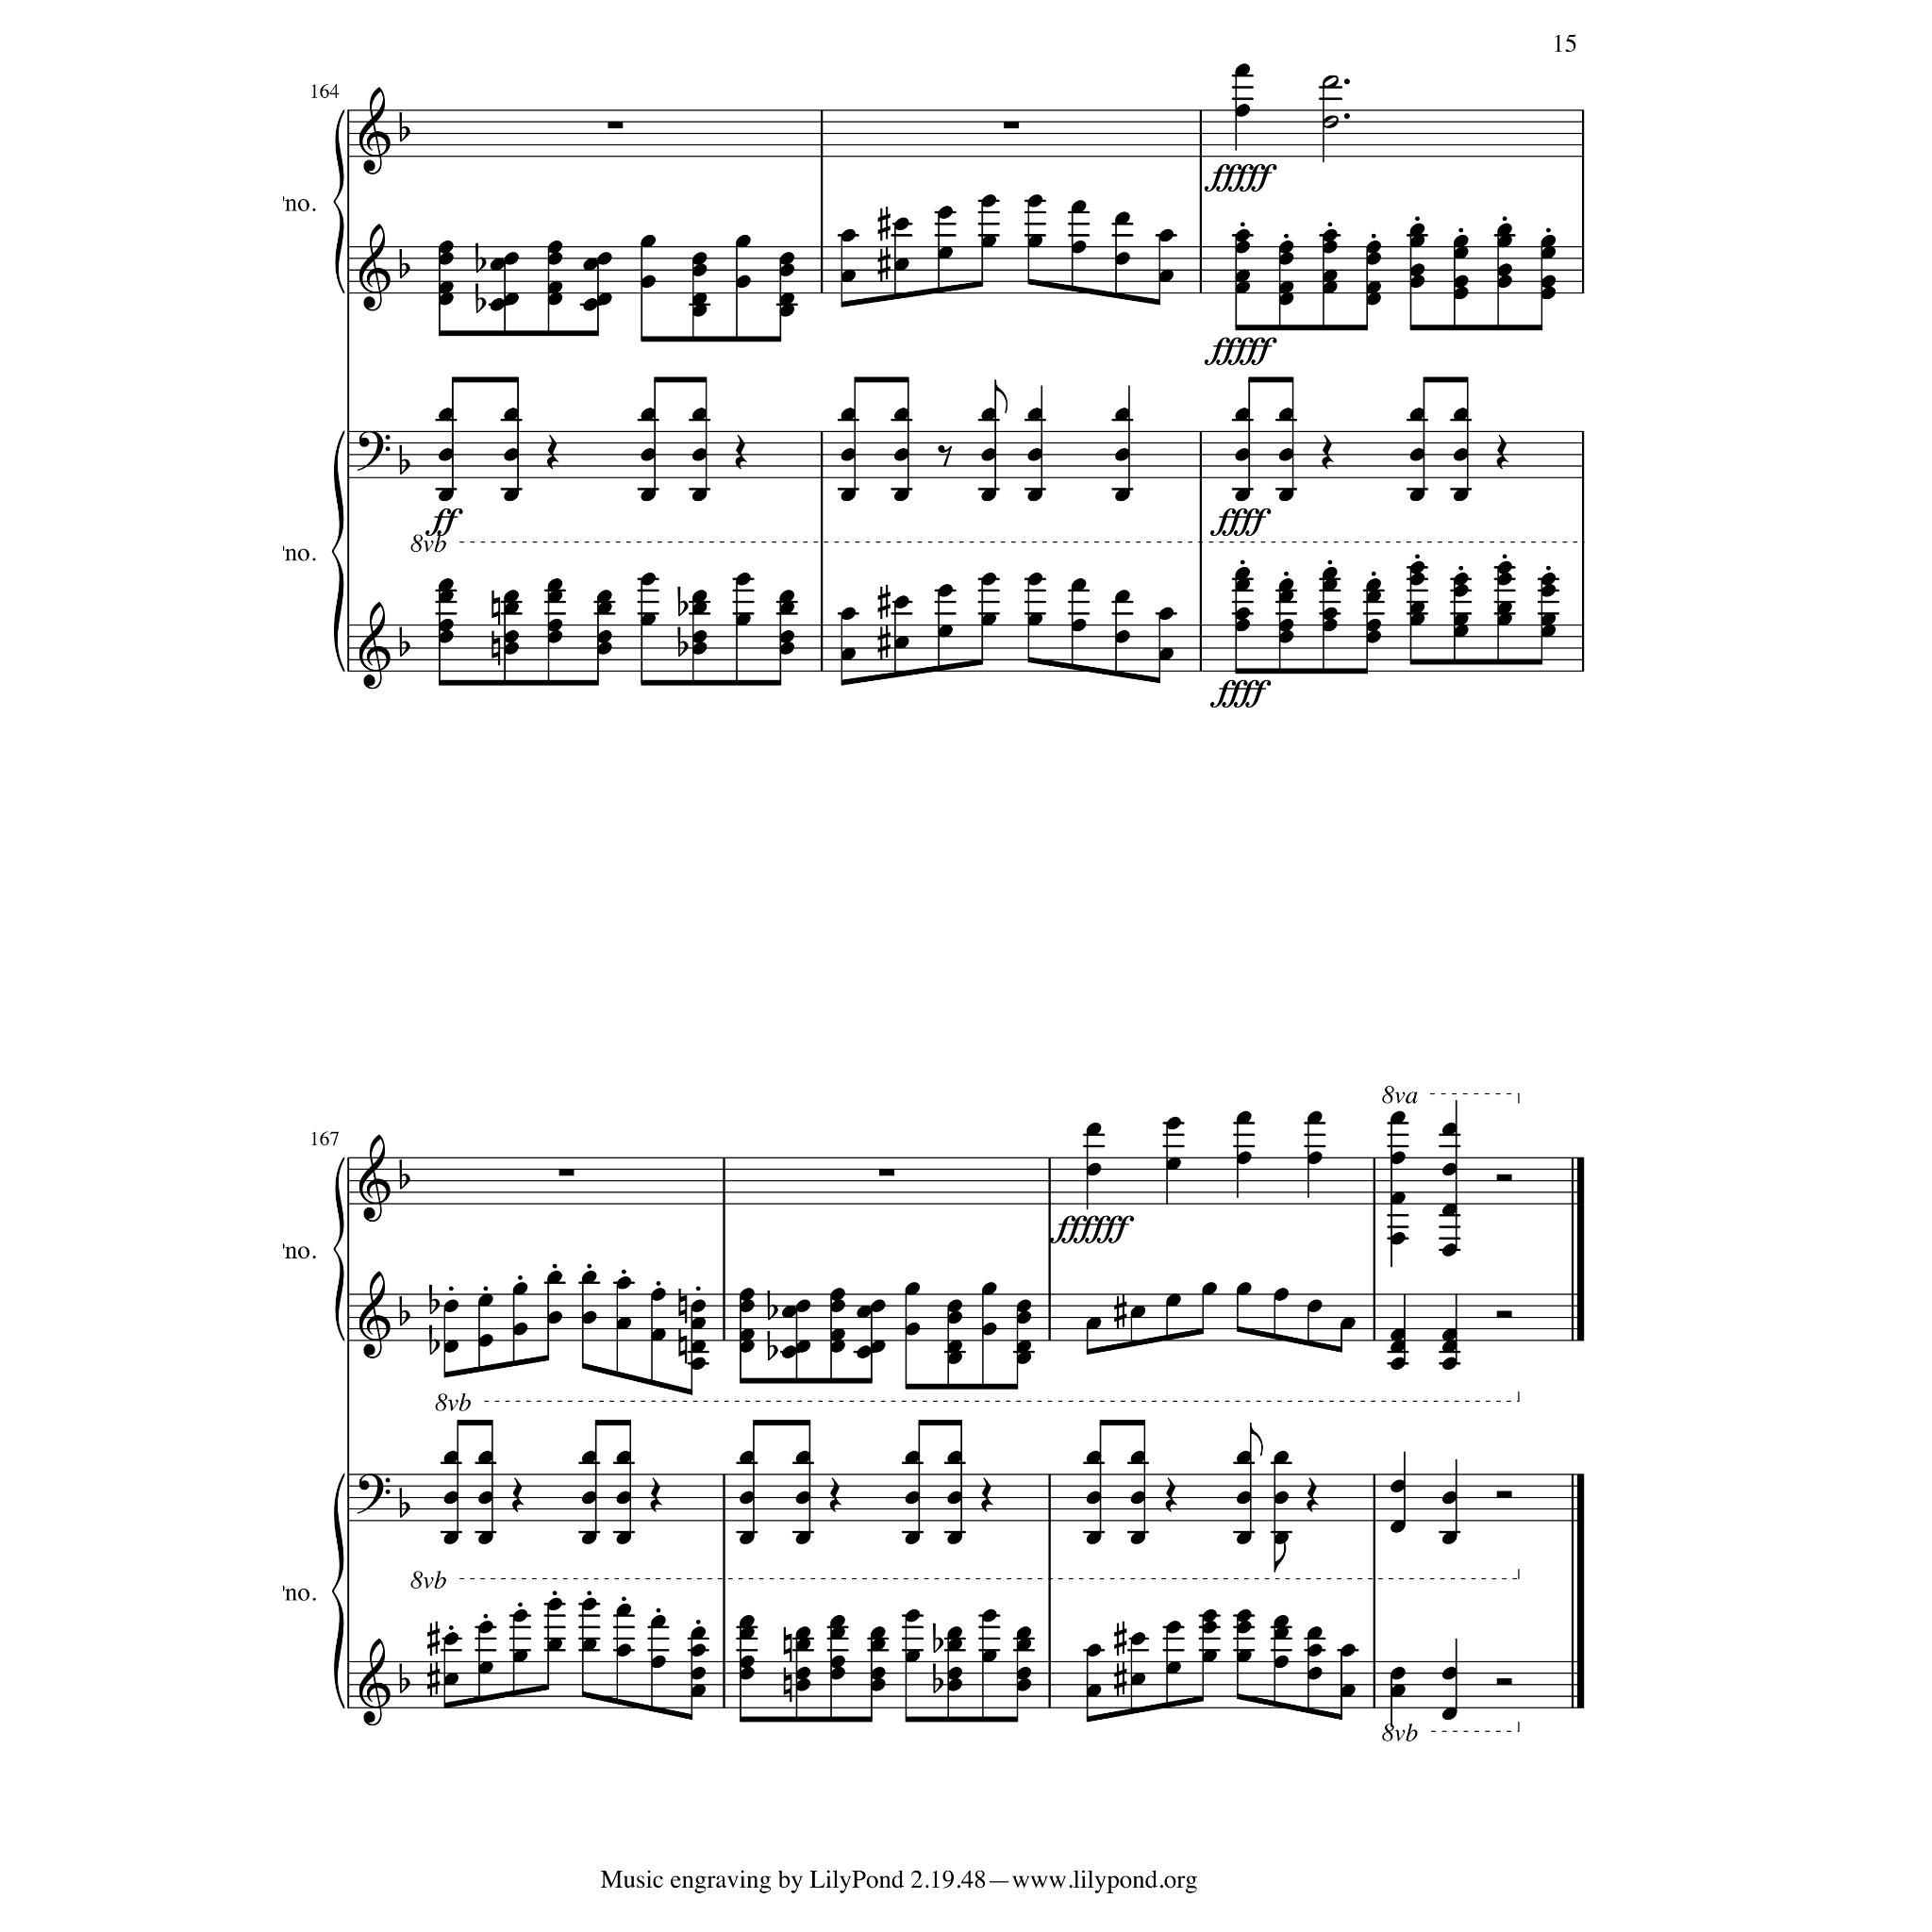brace: (331, 430, 345, 672), (331, 1474, 345, 1709), (333, 110, 345, 294), (333, 1157, 345, 1341)
fClef: (357, 430, 391, 471), (357, 1474, 391, 1514)
flag8thDown: (1274, 1539, 1286, 1573)
flag8thUp: (1249, 1422, 1263, 1456), (994, 380, 1007, 414)
gClef: (359, 602, 391, 690), (359, 223, 391, 311), (359, 87, 391, 175), (359, 1638, 391, 1727), (359, 1270, 391, 1359), (359, 1134, 391, 1223)
noteheadBlack: (1539, 287, 1557, 301), (1539, 274, 1557, 288), (1539, 246, 1557, 260), (1539, 625, 1557, 639), (502, 602, 520, 616), (488, 297, 506, 311), (502, 292, 520, 306), (502, 251, 520, 265), (502, 488, 520, 502), (502, 448, 520, 462), (502, 409, 520, 423), (502, 642, 520, 656), (502, 630, 520, 644), (502, 589, 520, 603), (1085, 1162, 1102, 1177), (1085, 1316, 1102, 1330), (1085, 1530, 1102, 1545), (1085, 1491, 1102, 1506), (1085, 1451, 1102, 1465), (1085, 1644, 1102, 1658), (1322, 566, 1338, 580), (1322, 269, 1338, 283), (1277, 409, 1293, 423), (1277, 292, 1293, 306), (1277, 251, 1293, 265), (1277, 488, 1293, 502), (1277, 448, 1293, 462), (1277, 630, 1293, 644), (1322, 607, 1338, 621), (1277, 589, 1293, 603), (1115, 448, 1131, 462), (1115, 251, 1131, 265), (1115, 488, 1131, 502), (1115, 409, 1131, 423), (1115, 630, 1131, 644), (1115, 589, 1131, 603), (1070, 200, 1086, 214), (1235, 269, 1251, 283), (1235, 488, 1251, 502), (1235, 448, 1251, 462), (1235, 409, 1251, 423), (1235, 64, 1251, 78), (1235, 607, 1251, 621), (1235, 566, 1251, 580), (1159, 269, 1175, 283), (1159, 607, 1175, 621), (1235, 103, 1251, 117), (1497, 274, 1513, 288), (1497, 264, 1513, 278), (1497, 223, 1513, 237), (1497, 602, 1513, 616), (1497, 561, 1513, 575), (1366, 589, 1382, 603), (1366, 630, 1382, 644), (1408, 274, 1424, 288), (1408, 264, 1424, 278), (1408, 223, 1424, 237), (1408, 488, 1424, 502), (1408, 448, 1424, 462), (1408, 409, 1424, 423), (1366, 292, 1382, 306), (1366, 251, 1382, 265), (1453, 488, 1468, 502), (1453, 448, 1468, 462), (1453, 409, 1468, 423), (1453, 625, 1468, 639), (1453, 246, 1468, 260), (1408, 602, 1424, 616), (1408, 561, 1424, 575), (1453, 287, 1468, 301), (1453, 274, 1468, 288), (582, 297, 598, 311), (596, 292, 612, 306), (596, 251, 612, 265), (596, 642, 612, 656), (596, 630, 612, 644), (596, 602, 612, 616), (596, 589, 612, 603), (547, 292, 563, 306), (547, 251, 563, 265), (547, 630, 563, 644), (547, 589, 563, 603), (692, 488, 708, 502), (692, 303, 708, 317), (692, 292, 708, 306), (692, 264, 708, 278), (692, 251, 708, 265), (692, 448, 708, 462), (692, 409, 708, 423), (692, 642, 708, 656), (692, 630, 708, 644), (1026, 409, 1042, 423), (692, 589, 708, 603), (640, 448, 656, 462), (640, 274, 656, 288), (640, 488, 656, 502), (640, 409, 656, 423), (437, 292, 453, 306), (437, 251, 453, 265), (437, 488, 453, 502), (437, 448, 453, 462), (437, 409, 453, 423), (437, 630, 453, 644), (437, 589, 453, 603), (692, 602, 708, 616), (893, 596, 909, 610), (938, 246, 954, 260), (938, 207, 954, 221), (893, 218, 909, 232), (893, 488, 909, 502), (893, 448, 909, 462), (893, 409, 909, 423), (893, 635, 909, 649), (980, 409, 996, 423), (1026, 195, 1042, 209), (1026, 488, 1042, 502), (1026, 448, 1042, 462), (938, 625, 954, 639), (980, 195, 996, 209), (980, 488, 996, 502), (980, 448, 996, 462), (778, 303, 794, 317), (778, 292, 794, 306), (778, 264, 794, 278), (778, 251, 794, 265), (778, 642, 794, 656), (778, 602, 794, 616), (778, 589, 794, 603), (778, 630, 794, 644), (734, 274, 750, 288), (840, 488, 856, 502), (840, 448, 856, 462), (840, 409, 856, 423), (840, 607, 856, 621), (840, 269, 856, 283), (1166, 1157, 1182, 1171), (1166, 1116, 1182, 1131), (1166, 1621, 1182, 1635), (1131, 1672, 1146, 1686), (1131, 1631, 1146, 1645), (1235, 1111, 1251, 1125), (1235, 1281, 1251, 1295), (1235, 1530, 1251, 1545), (1235, 1491, 1251, 1506), (1235, 1451, 1251, 1465), (1235, 1649, 1251, 1663), (1235, 1621, 1251, 1635), (1201, 1621, 1217, 1635), (1201, 1281, 1217, 1295), (1201, 1649, 1217, 1663), (1016, 1667, 1031, 1681), (1016, 1626, 1031, 1640), (982, 1649, 998, 1663), (1016, 1350, 1031, 1364), (1016, 1339, 1031, 1353), (1016, 1311, 1031, 1325), (982, 1281, 998, 1295), (1131, 1530, 1146, 1545), (1131, 1491, 1146, 1506), (1131, 1451, 1146, 1465), (1442, 1162, 1458, 1177), (1442, 1357, 1458, 1371), (1442, 1339, 1458, 1353), (1442, 1530, 1458, 1545), (1442, 1491, 1458, 1506), (1442, 1667, 1458, 1681), (1307, 1111, 1323, 1125), (1307, 1667, 1323, 1681), (1307, 1644, 1323, 1658), (1307, 1626, 1323, 1640), (1274, 1530, 1290, 1545), (1274, 1491, 1290, 1506), (1274, 1451, 1290, 1465), (1274, 1656, 1290, 1670), (1274, 1626, 1290, 1640), (1389, 1667, 1405, 1681), (1339, 1316, 1355, 1330), (1339, 1644, 1355, 1658), (1389, 1231, 1405, 1246), (1389, 1191, 1405, 1205), (1389, 1111, 1405, 1125), (1389, 1357, 1405, 1371), (1389, 1339, 1405, 1353), (1389, 1520, 1405, 1534), (1389, 1479, 1405, 1493), (580, 1311, 596, 1325), (580, 1270, 596, 1284), (580, 1530, 596, 1545), (580, 1491, 596, 1506), (580, 1451, 596, 1465), (580, 1598, 596, 1612), (511, 1649, 527, 1663), (547, 1311, 563, 1325), (547, 1270, 563, 1284), (547, 1598, 563, 1612), (651, 1656, 667, 1670), (616, 1491, 632, 1506), (616, 1316, 632, 1330), (616, 1276, 632, 1290), (616, 1530, 632, 1545), (511, 1281, 527, 1295), (616, 1451, 632, 1465), (616, 1644, 632, 1658), (616, 1603, 632, 1617), (442, 1339, 458, 1353), (442, 1530, 458, 1545), (442, 1491, 458, 1506), (442, 1451, 458, 1465), (442, 1672, 458, 1686), (442, 1631, 458, 1645), (478, 1530, 494, 1545), (478, 1491, 494, 1506), (478, 1451, 494, 1465), (478, 1621, 494, 1635), (830, 1667, 846, 1681), (830, 1656, 846, 1670), (830, 1626, 846, 1640), (856, 1345, 872, 1359), (869, 1339, 885, 1353), (869, 1667, 885, 1681), (830, 1339, 846, 1353), (947, 1530, 962, 1545), (947, 1350, 962, 1364), (947, 1339, 962, 1353), (947, 1311, 962, 1325), (947, 1491, 962, 1506), (947, 1451, 962, 1465), (947, 1667, 962, 1681), (947, 1626, 962, 1640), (904, 1281, 920, 1295), (869, 1626, 885, 1640), (904, 1530, 920, 1545), (904, 1491, 920, 1506), (904, 1451, 920, 1465), (904, 1649, 920, 1663), (740, 1656, 755, 1670), (740, 1339, 755, 1353), (740, 1530, 755, 1545), (740, 1491, 755, 1506), (740, 1451, 755, 1465), (740, 1667, 755, 1681), (740, 1626, 755, 1640), (690, 1626, 706, 1640), (690, 1357, 706, 1371), (690, 1339, 706, 1353), (690, 1316, 706, 1330), (690, 1667, 706, 1681), (690, 1644, 706, 1658), (794, 1626, 810, 1640), (794, 1339, 810, 1353), (780, 1345, 796, 1359), (794, 1667, 810, 1681), (794, 1451, 810, 1465), (794, 1491, 810, 1506), (794, 1530, 810, 1545), (1539, 614, 1557, 626), (1539, 235, 1557, 248), (1539, 586, 1557, 598), (1539, 573, 1557, 586), (488, 258, 506, 271), (1085, 1123, 1102, 1136), (1085, 1684, 1102, 1697), (1026, 614, 1042, 626), (1322, 281, 1338, 294), (1322, 241, 1338, 253), (1322, 230, 1338, 242), (1277, 281, 1293, 294), (1277, 241, 1293, 253), (1277, 619, 1293, 632), (1322, 579, 1338, 591), (1277, 579, 1293, 591), (1322, 619, 1338, 632), (1115, 212, 1131, 225), (1026, 573, 1042, 586), (1070, 241, 1086, 253), (1070, 619, 1086, 632), (1070, 579, 1086, 591), (1235, 281, 1251, 294), (1235, 241, 1251, 253), (1235, 230, 1251, 242), (1235, 619, 1251, 632), (1235, 579, 1251, 591), (1159, 230, 1175, 242), (1159, 648, 1175, 660), (1497, 573, 1513, 586), (1497, 235, 1513, 248), (1497, 614, 1513, 626), (1366, 619, 1382, 632), (1366, 579, 1382, 591), (1408, 235, 1424, 248), (1408, 614, 1424, 626), (1366, 281, 1382, 294), (1366, 241, 1382, 253), (1453, 235, 1468, 248), (1453, 614, 1468, 626), (1453, 586, 1468, 598), (1453, 573, 1468, 586), (1408, 573, 1424, 586), (582, 258, 598, 271), (547, 281, 563, 294), (547, 241, 563, 253), (547, 619, 563, 632), (547, 579, 563, 591), (640, 235, 656, 248), (640, 614, 656, 626), (640, 573, 656, 586), (437, 281, 453, 294), (437, 241, 453, 253), (437, 619, 453, 632), (437, 579, 453, 591), (893, 258, 909, 271), (980, 614, 996, 626), (980, 573, 996, 586), (1026, 235, 1042, 248), (938, 586, 954, 598), (980, 235, 996, 248), (734, 235, 750, 248), (734, 614, 750, 626), (734, 573, 750, 586), (840, 648, 856, 660), (840, 230, 856, 242), (1166, 1661, 1182, 1674), (1166, 1293, 1182, 1306), (1235, 1610, 1251, 1622), (1235, 1152, 1251, 1164), (982, 1610, 998, 1622), (1201, 1610, 1217, 1622), (1016, 1638, 1031, 1651), (1016, 1679, 1031, 1691), (982, 1323, 998, 1336), (1016, 1300, 1031, 1313), (1131, 1306, 1146, 1318), (1442, 1244, 1458, 1256), (1442, 1203, 1458, 1215), (1442, 1123, 1458, 1136), (1442, 1329, 1458, 1341), (1442, 1707, 1458, 1720), (1307, 1152, 1323, 1164), (1307, 1300, 1323, 1313), (1274, 1288, 1290, 1300), (1274, 1615, 1290, 1628), (1339, 1684, 1355, 1697), (1389, 1152, 1405, 1164), (1389, 1329, 1405, 1341), (1389, 1684, 1405, 1697), (580, 1638, 596, 1651), (511, 1610, 527, 1622), (547, 1638, 563, 1651), (651, 1615, 667, 1628), (651, 1329, 667, 1341), (651, 1288, 667, 1300), (442, 1300, 458, 1313), (478, 1293, 494, 1306), (478, 1661, 494, 1674), (478, 1334, 494, 1346), (511, 1323, 527, 1336), (830, 1615, 846, 1628), (856, 1306, 872, 1318), (869, 1300, 885, 1313), (869, 1679, 885, 1691), (869, 1638, 885, 1651), (830, 1329, 846, 1341), (830, 1300, 846, 1313), (830, 1288, 846, 1300), (947, 1300, 962, 1313), (947, 1679, 962, 1691), (947, 1638, 962, 1651), (904, 1323, 920, 1336), (904, 1610, 920, 1622), (740, 1329, 755, 1341), (740, 1300, 755, 1313), (740, 1288, 755, 1300), (740, 1615, 755, 1628), (690, 1300, 706, 1313), (690, 1684, 706, 1697), (780, 1306, 796, 1318), (794, 1638, 810, 1651), (794, 1679, 810, 1691), (794, 1300, 810, 1313)
noteheadHalf: (1322, 117, 1339, 129), (1322, 76, 1339, 88)
rest8th: (936, 446, 952, 467)
restHalf: (1495, 1173, 1511, 1182), (1495, 1490, 1511, 1499), (1495, 1311, 1511, 1318), (1495, 1679, 1511, 1686)
restQuarter: (1320, 433, 1334, 471), (1497, 433, 1509, 471), (547, 433, 559, 471), (734, 433, 747, 471), (1164, 1477, 1177, 1513), (980, 1477, 993, 1513), (1306, 1477, 1318, 1513), (511, 1477, 524, 1513), (649, 1477, 662, 1513), (828, 1477, 840, 1513)
restWhole: (1003, 122, 1019, 129), (607, 122, 623, 129), (879, 1169, 895, 1177), (557, 1169, 573, 1177)
